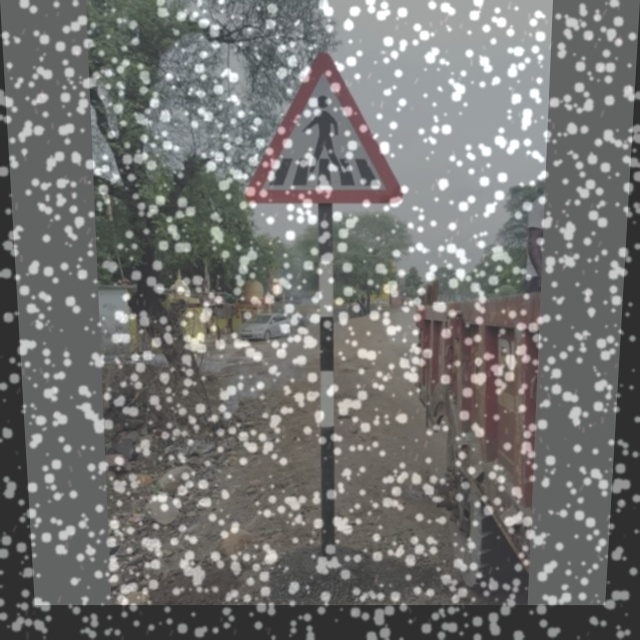Pedestrian_Crossing: (247, 40, 412, 206)
